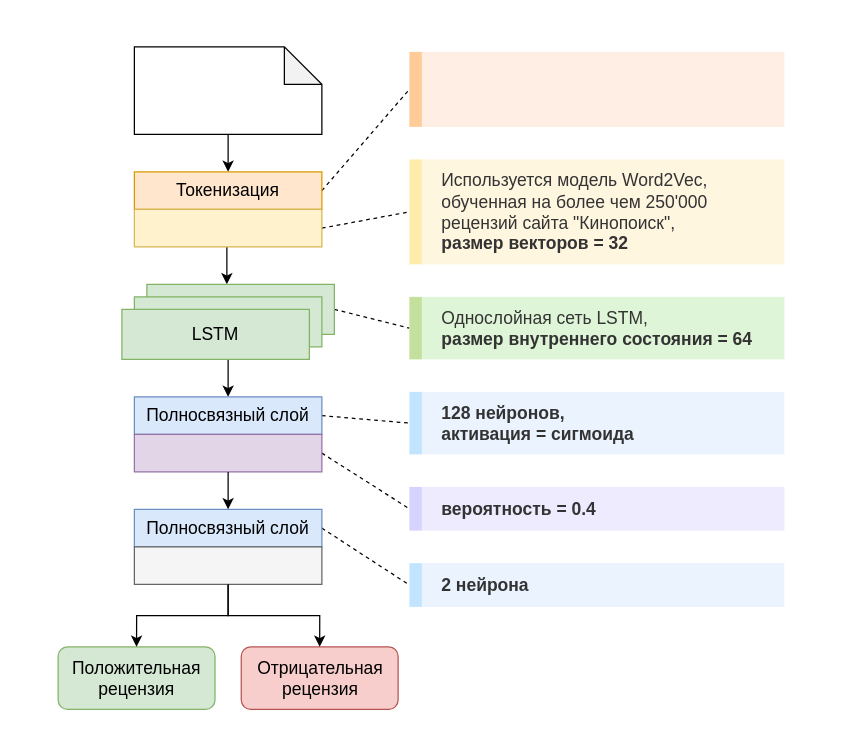
Some shapes in this 843 by 755 pixel diagram are drawn without their labels. The centre of each missing label's shape, as x and y in pixels:
"Softmax" belongs at (x=227, y=565).
"Исключение" belongs at (x=227, y=452).
"Текст рецензии" belongs at (x=227, y=90).
"Токенинзация осуществляется за счет регулярного выражения" belongs at (x=602, y=88).
"Эмбеддинг" belongs at (x=227, y=227).
